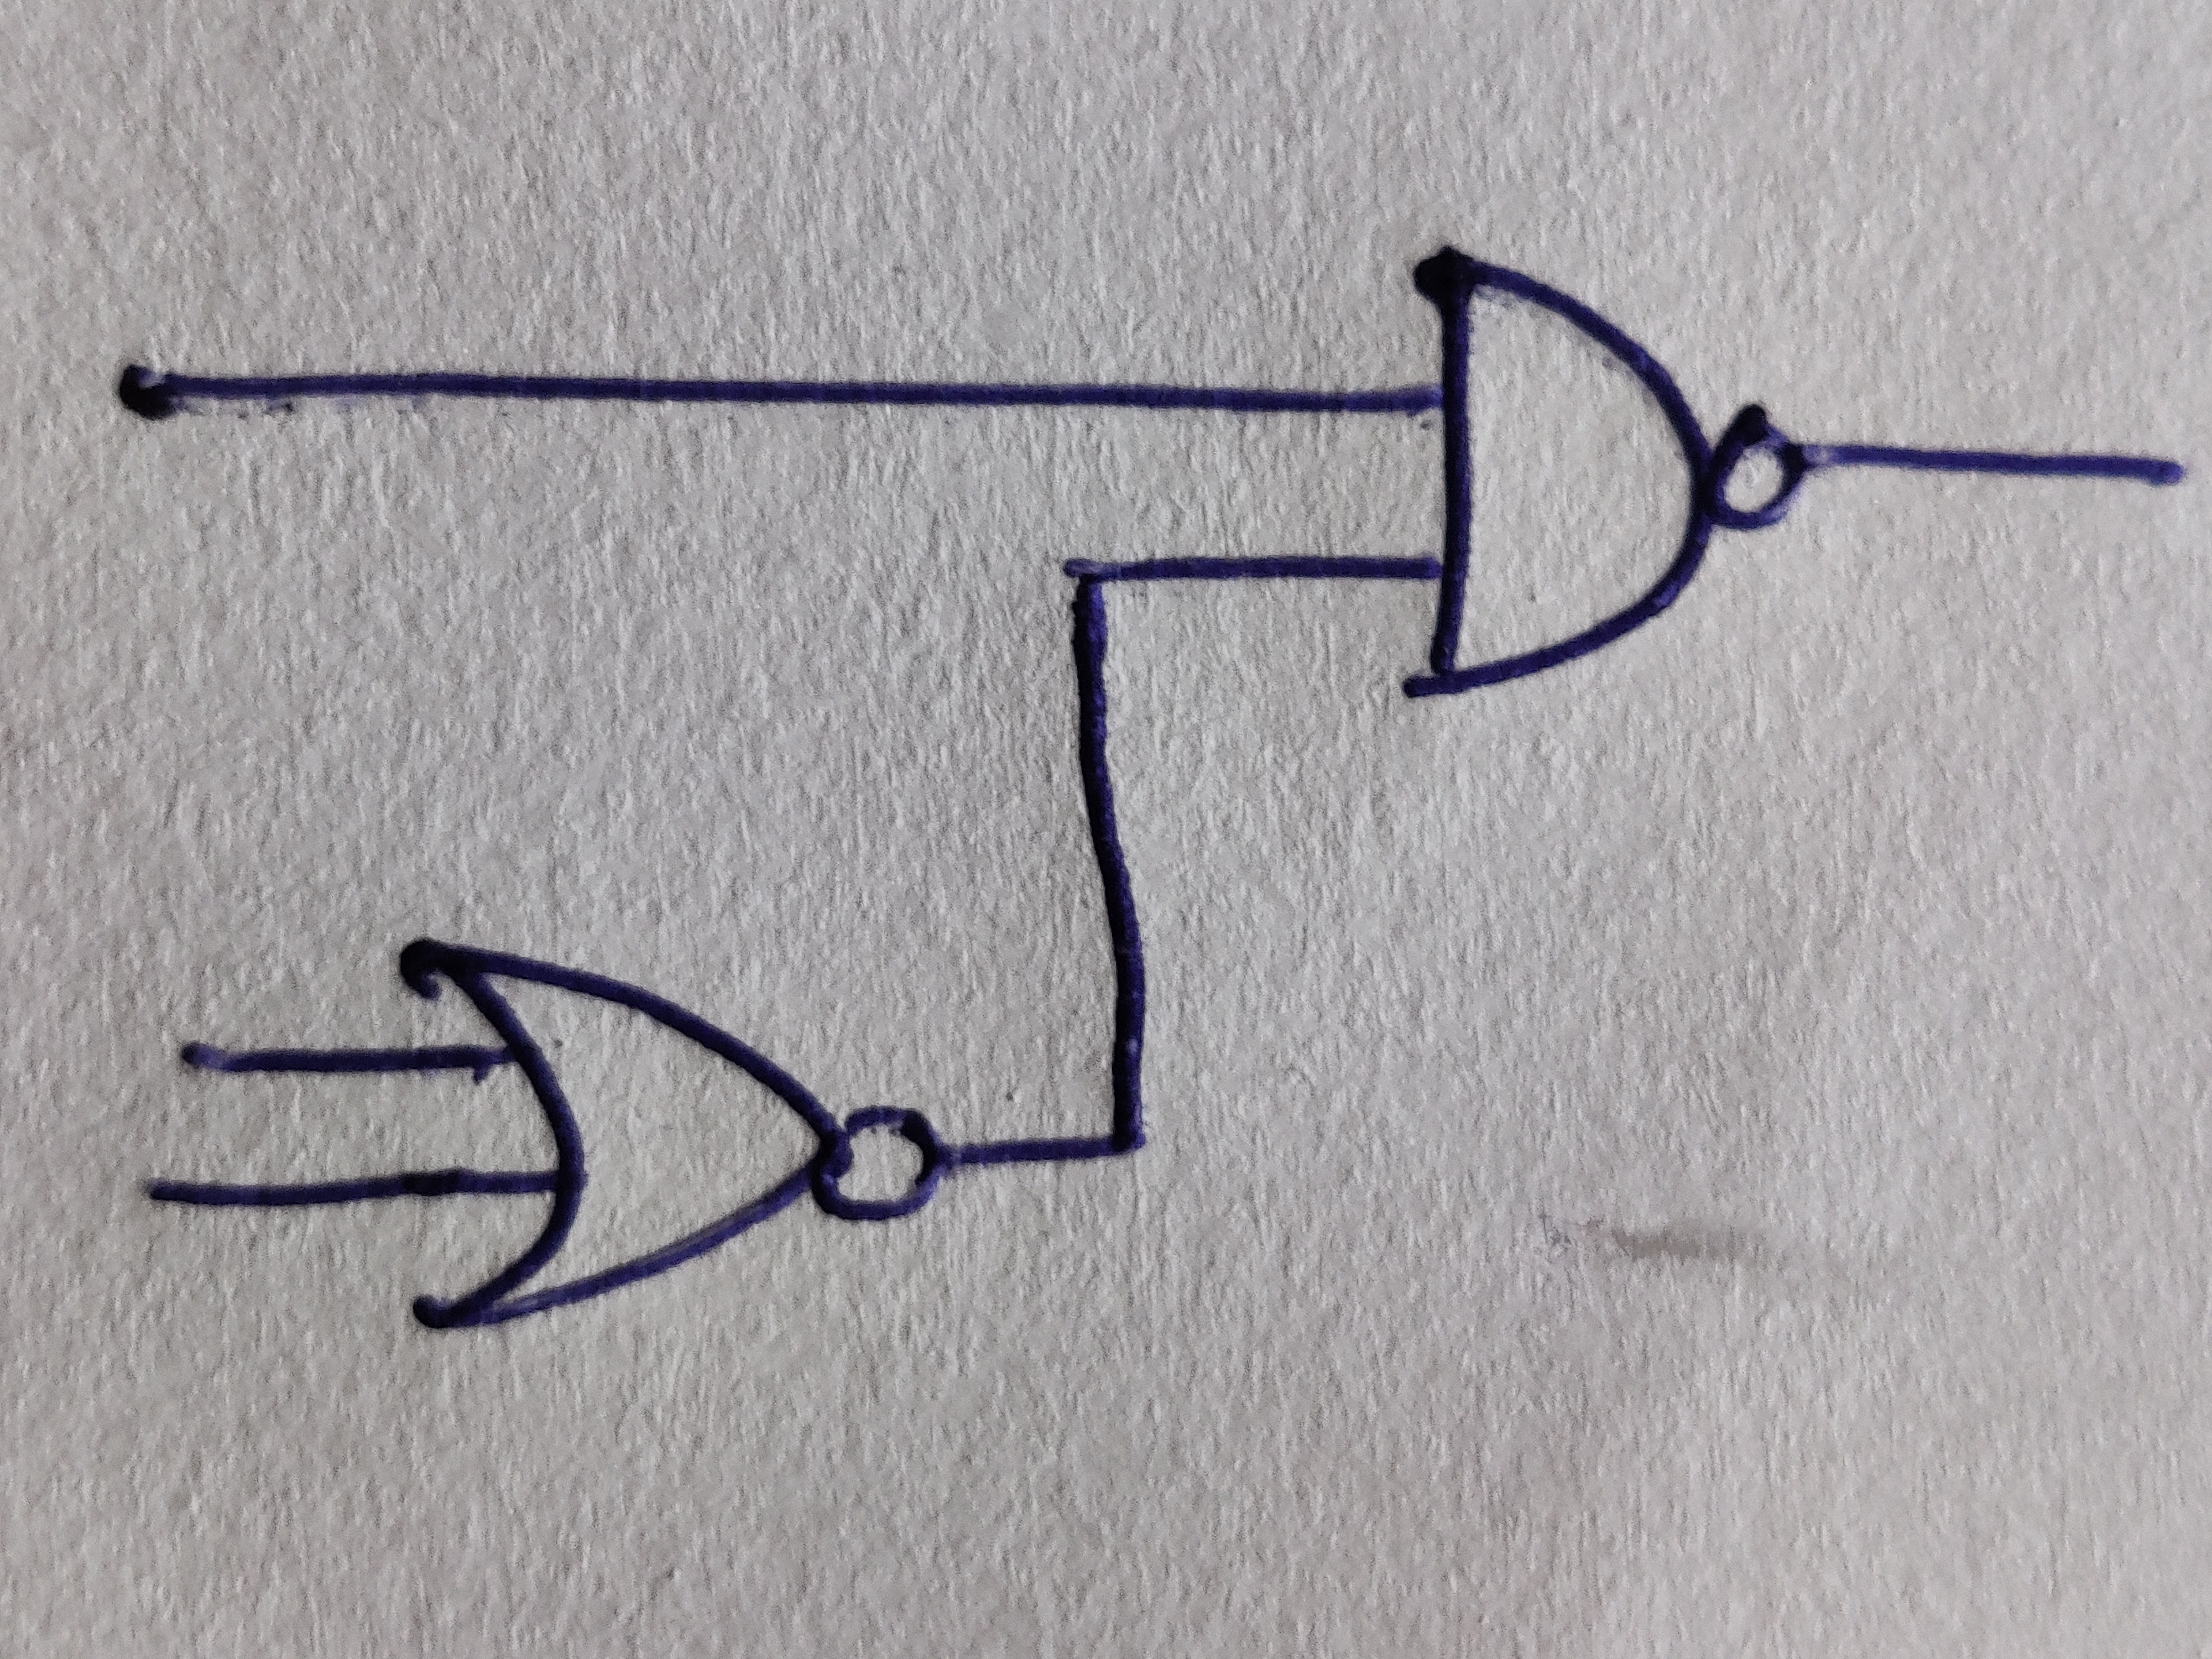and: (1402, 247, 1712, 701)
not: (813, 1105, 941, 1222), (1712, 404, 1801, 532)
or: (395, 939, 853, 1331)
